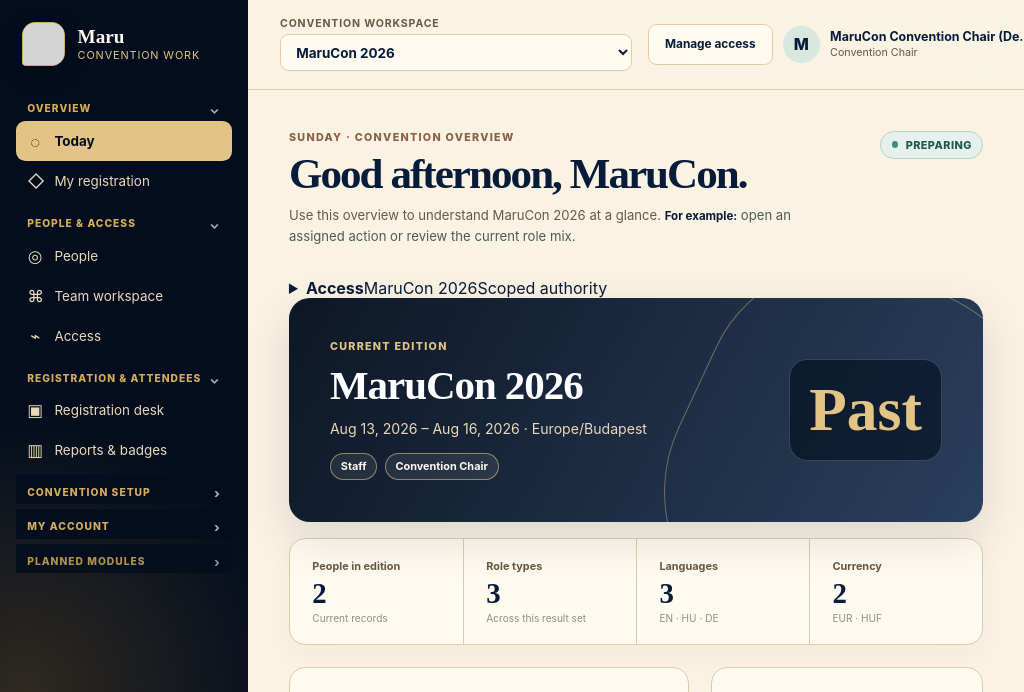
Test: Management Console › uses exact assignment semantics when modules and the adapter diverge
Click the button "⌘ Team workspace" at [124, 296], box [16, 276, 232, 316]
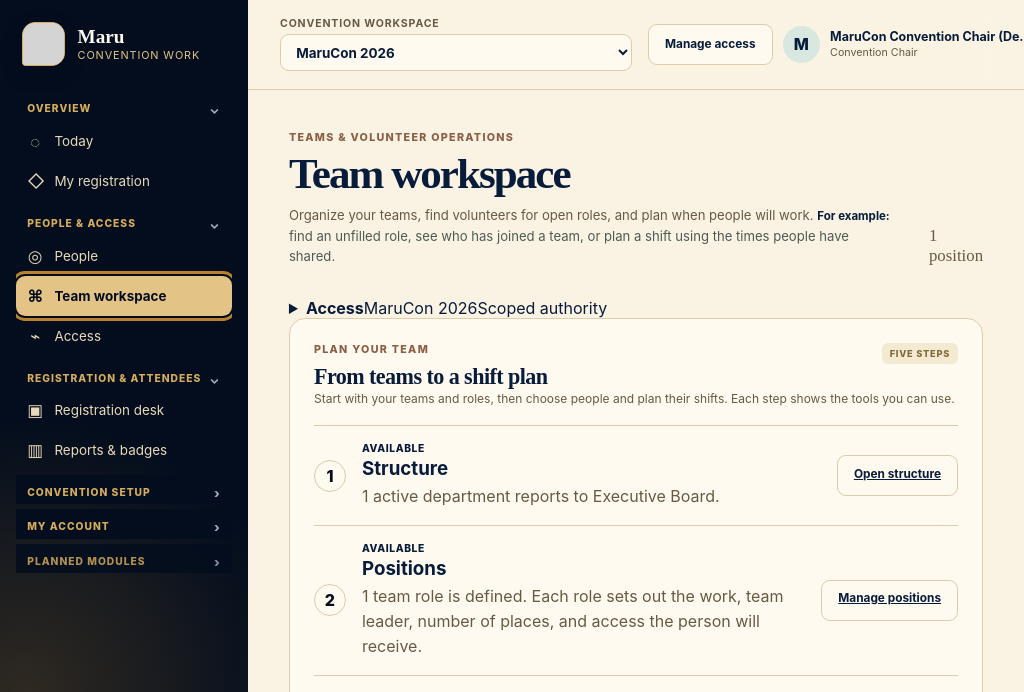
Click the button "Manage access" at [710, 44], box [648, 24, 772, 65]
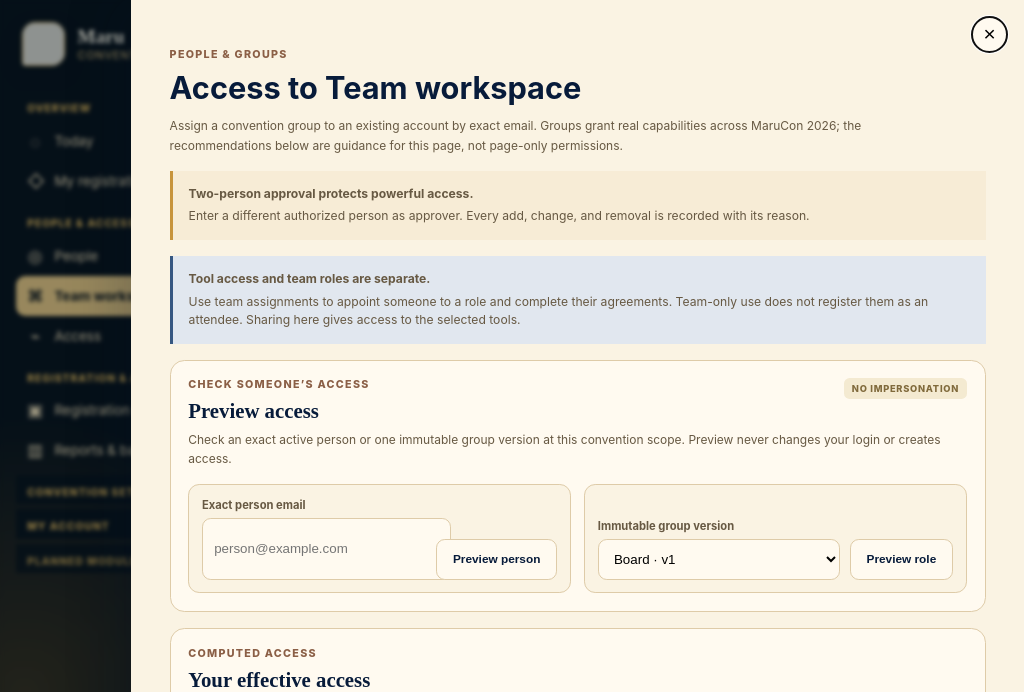
Check: the text "Team-only use does not register them as an attendee" is shown, box [189, 294, 928, 327]
